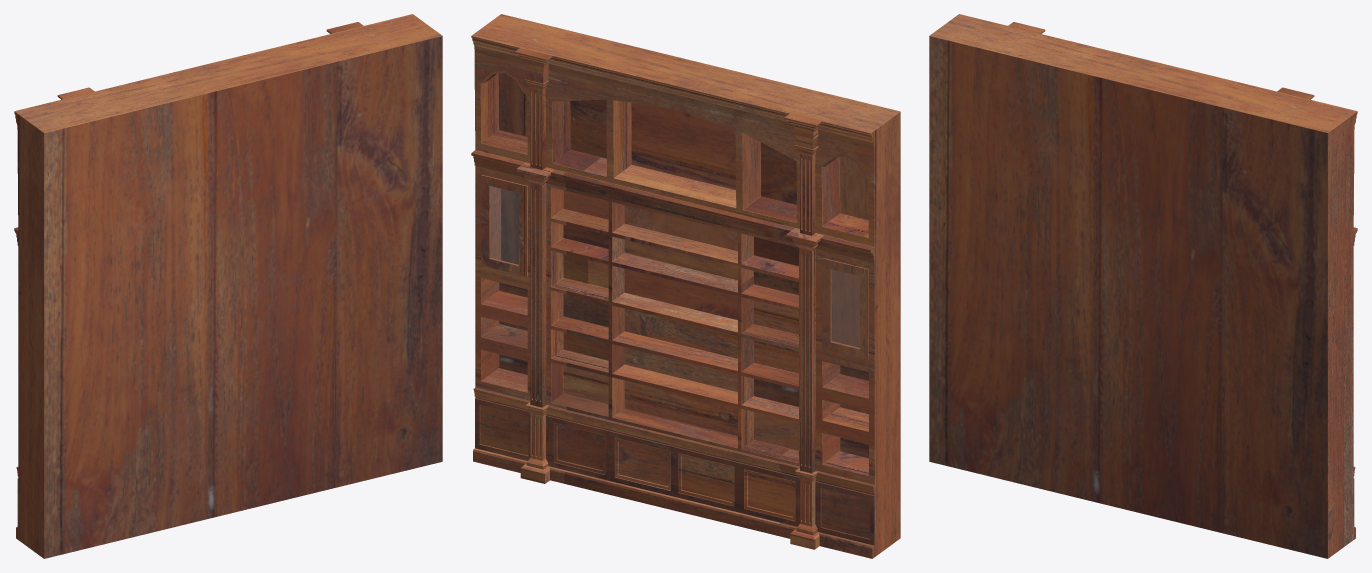
The model's file is Shelf4.fbx.
3 views of the same model, side by side, from view 1: azimuth 30°, elevation 25°; view 2: azimuth 150°, elevation 25°; view 3: azimuth 330°, elevation 25° (orthographic).
Visible parts, largest first — view 1: Bookcase; view 2: Bookcase; view 3: Bookcase.
Part boxes in pixels (x1,y1,x2,y2): Bookcase: (14,14,442,558); Bookcase: (471,14,900,558); Bookcase: (929,14,1357,558).
Size of the model in its own units: 473 by 483 by 72.76.
